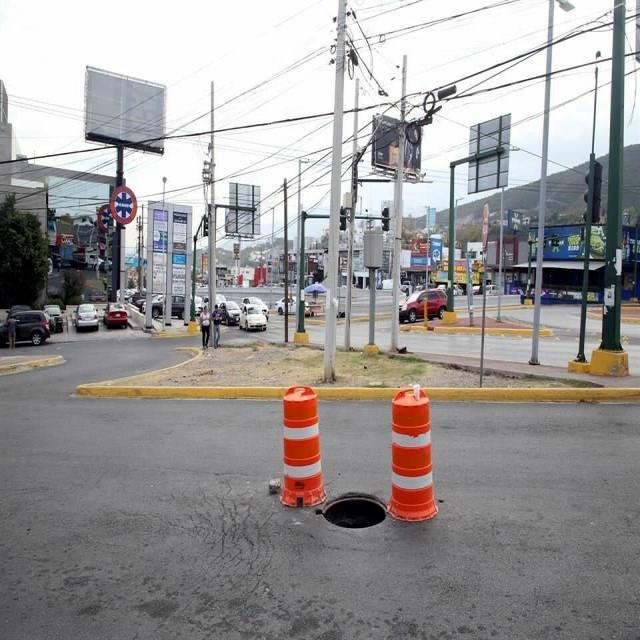Pothole: (297, 471, 436, 593)
